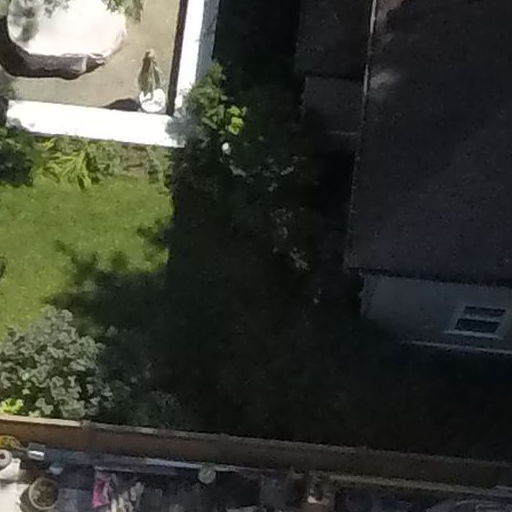container: (24, 473, 62, 512), (1, 445, 17, 471)
